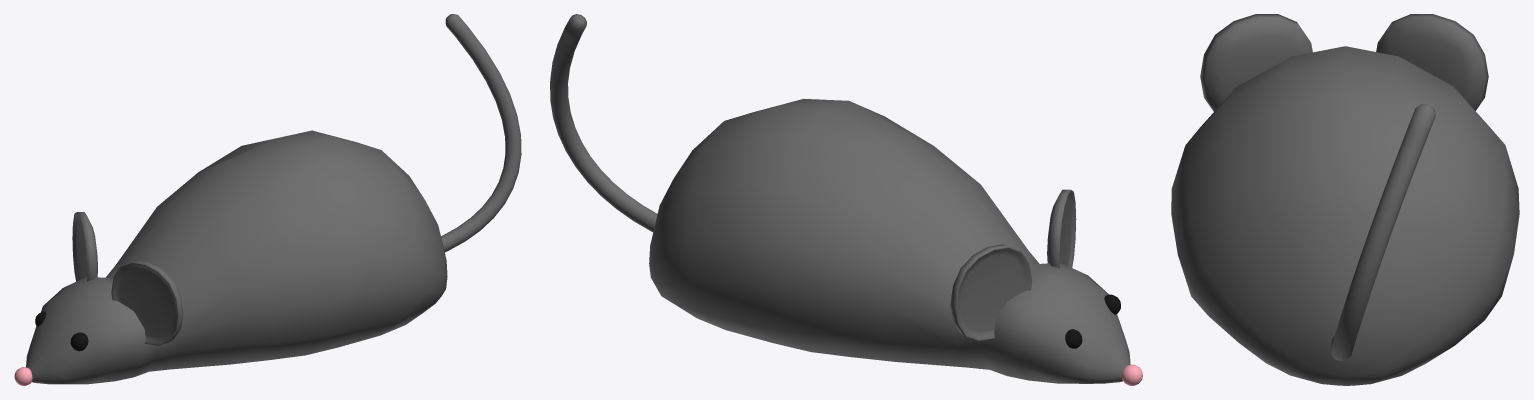
Rendered from Mouse.fbx.
3 renders of one model, left to right at view 1: azimuth 30°, elevation 25°; view 2: azimuth 150°, elevation 25°; view 3: azimuth 270°, elevation 25°, orthographic. The views are drawn at different scales.
Visible parts, largest first — view 1: Mouse, Mouse_Ear; view 2: Mouse, Mouse_Ear, Mouse_Eyes; view 3: Mouse.
Boxes of the visible parts, box(x1,y1,x2,y2) form: Mouse: box(26, 14, 521, 384); Mouse_Ear: box(76, 220, 174, 337); Mouse: box(550, 14, 1130, 383); Mouse_Ear: box(960, 198, 1071, 332); Mouse_Eyes: box(1065, 294, 1120, 348); Mouse: box(1171, 14, 1519, 385).
Bounding box in the file's own units: 3.61 × 1.6 × 1.57.
